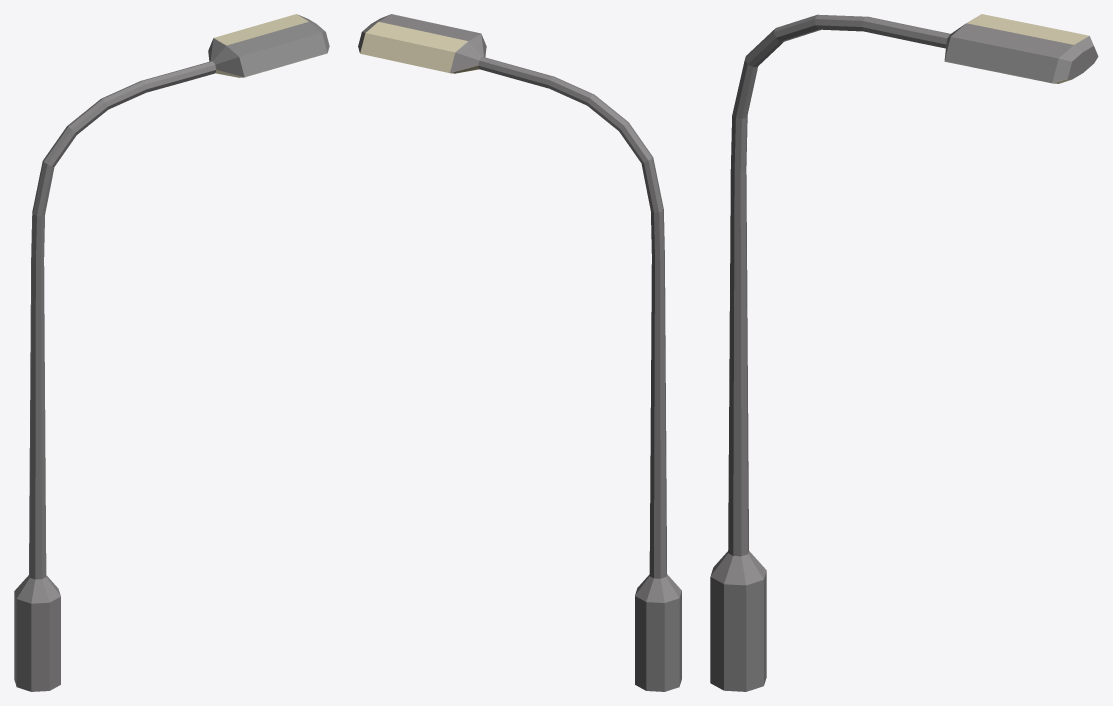
Rendered from Lampa_main.fbx.
The picture shows the model from 3 angles, left to right: view 1: azimuth 30°, elevation 25°; view 2: azimuth 150°, elevation 25°; view 3: azimuth 330°, elevation 25°; orthographic projection. The views are drawn at different scales.
Visible parts, largest first — view 1: Lamp; view 2: Lamp; view 3: Lamp.
Boxes of the visible parts, x1,y1,x2,y2 form: Lamp: [14, 14, 329, 691]; Lamp: [358, 14, 681, 691]; Lamp: [710, 14, 1098, 691].
Bounding box in the file's own units: 48.59 × 90.44 × 11.
Materials: 1 (1 with a texture image).
